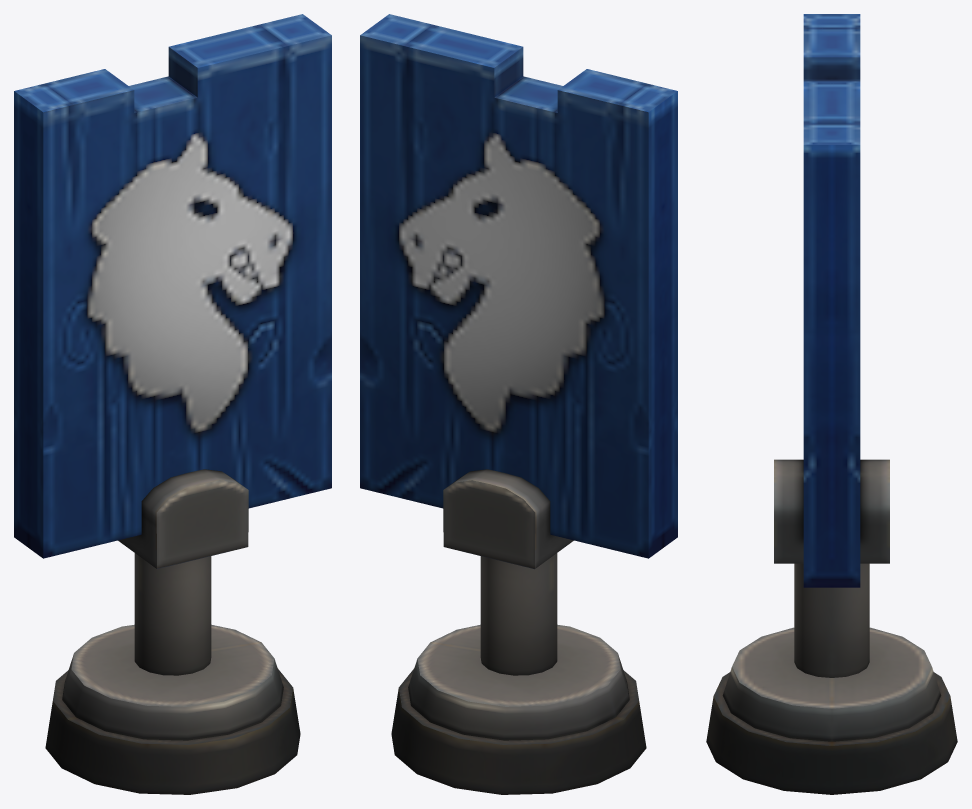
Rendered from Waypoint.FBX.
3 views of the same model, side by side, from view 1: azimuth 30°, elevation 25°; view 2: azimuth 150°, elevation 25°; view 3: azimuth 270°, elevation 25° (orthographic). The views are drawn at different scales.
Visible parts, largest first — view 1: Waypoint_Top, Waypoint_Base; view 2: Waypoint_Top, Waypoint_Base; view 3: Waypoint_Top, Waypoint_Base.
Boxes of the visible parts, <box> form: Waypoint_Top: <box>14,14,331,740</box>; Waypoint_Base: <box>45,669,300,794</box>; Waypoint_Top: <box>360,14,677,740</box>; Waypoint_Base: <box>391,669,646,794</box>; Waypoint_Top: <box>722,14,941,741</box>; Waypoint_Base: <box>706,672,957,794</box>.
Size of the model in its own units: 37.38 by 28.87 by 84.32.
